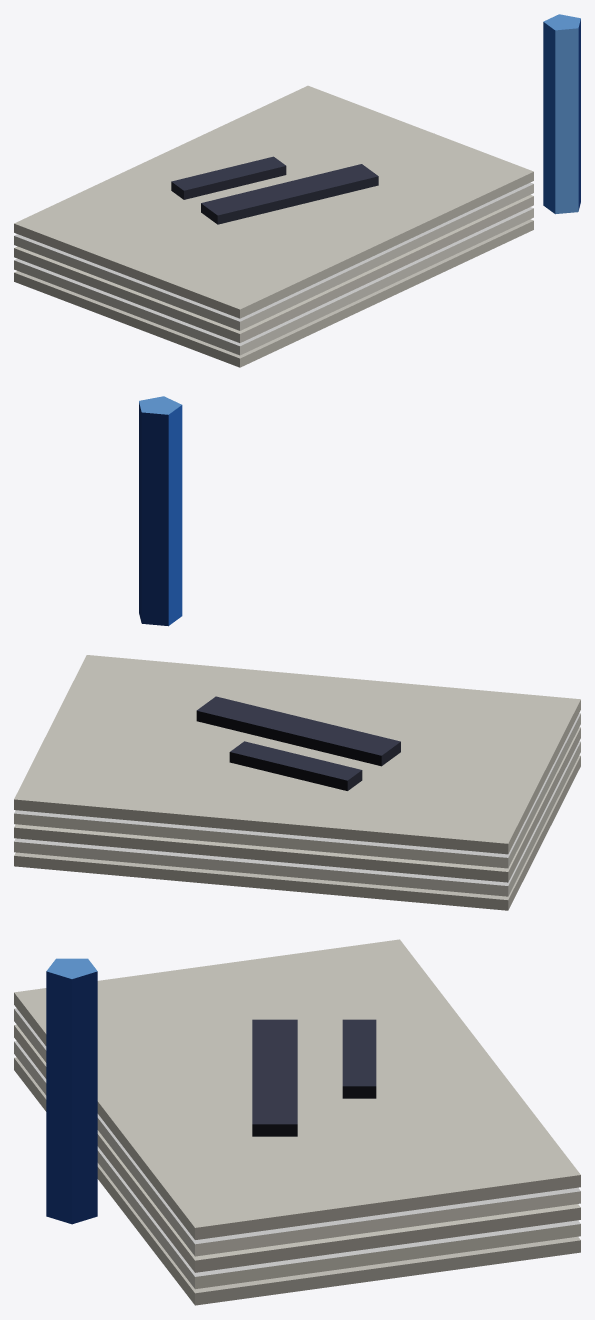
Rendered from paper_pile.glb.
3 views of the same model, one above another, from view 1: azimuth 30°, elevation 25°; view 2: azimuth 150°, elevation 25°; view 3: azimuth 270°, elevation 25° (orthographic). The views are drawn at different scales.
Visible parts, largest first — view 1: paper_pile; view 2: paper_pile; view 3: paper_pile.
Boxes of the visible parts, bbox=[...] form: paper_pile: bbox=[14, 14, 580, 367]; paper_pile: bbox=[14, 396, 580, 910]; paper_pile: bbox=[14, 939, 580, 1305].
Bounding box in the file's own units: 0.3034 × 0.16 × 0.2515.
